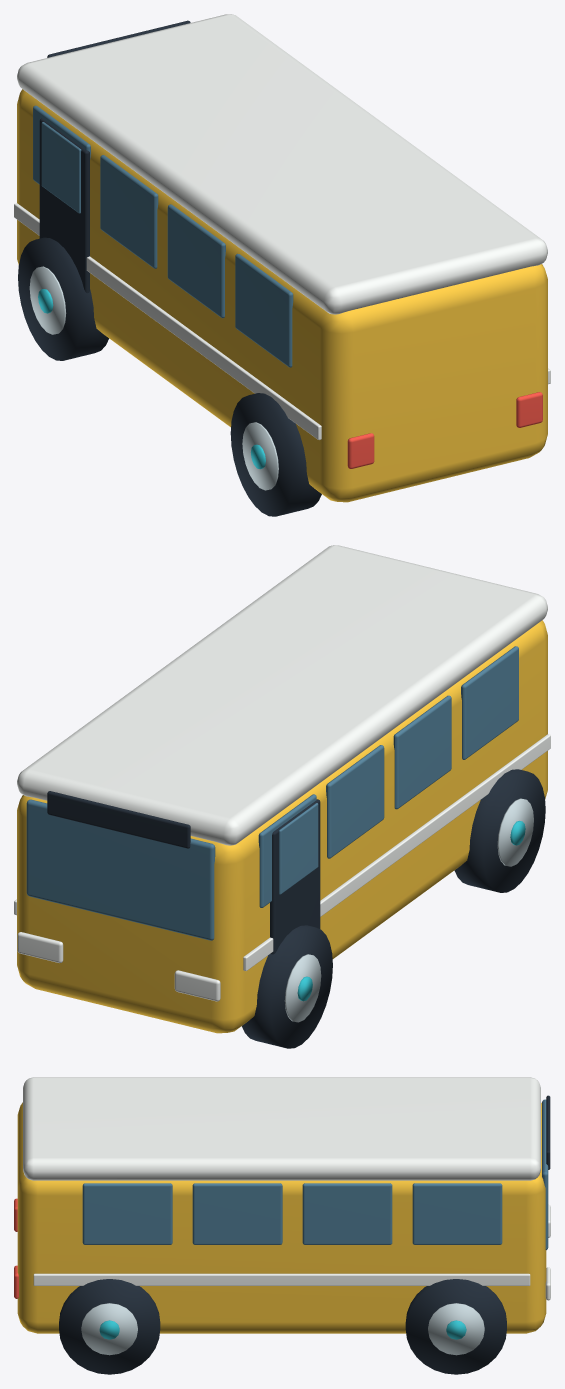
The model's file is school_bus.glb.
The picture shows the model from 3 angles, top to bottom: view 1: azimuth 30°, elevation 25°; view 2: azimuth 150°, elevation 25°; view 3: azimuth 270°, elevation 25°; orthographic projection. The views are drawn at different scales.
Parts seen in each view (by area): view 1: Rounded white roof, Bus body, Bus wheel tyre.003, Bus wheel tyre.002, Passenger window.006, Passenger window.007, Passenger window.005, Reflective side belt.001, Door, Door window, Bus wheel rim.007, Bus wheel rim.005 (+3 smaller); view 2: Rounded white roof, Bus body, Large driver windscreen, Bus wheel tyre.003, Bus wheel tyre.002, Passenger window.006, Passenger window.005, Passenger window.007, Reflective side belt.001, Friendly destination panel, Door, Door window (+5 smaller); view 3: Rounded white roof, Bus body, Reflective side belt, Passenger window.003, Passenger window, Passenger window.002, Passenger window.001, Bus wheel tyre.001, Bus wheel tyre, Bus wheel rim, Bus wheel rim.002, Large driver windscreen.
Part boxes in pixels (x1,y1,x2,y2): Rounded white roof: [17, 14, 547, 314]; Bus body: [17, 89, 547, 502]; Bus wheel tyre.003: [230, 393, 321, 516]; Bus wheel tyre.002: [18, 237, 108, 360]; Passenger window.006: [167, 204, 225, 318]; Passenger window.007: [235, 253, 293, 367]; Passenger window.005: [100, 155, 158, 268]; Reflective side belt.001: [14, 203, 321, 439]; Door: [39, 118, 89, 293]; Door window: [41, 122, 81, 213]; Bus wheel rim.007: [242, 422, 278, 490]; Bus wheel rim.005: [29, 266, 66, 334]; Rounded white roof: [17, 545, 547, 845]; Bus body: [17, 620, 547, 1033]; Large driver windscreen: [26, 799, 215, 940]; Bus wheel tyre.003: [454, 769, 545, 892]; Bus wheel tyre.002: [242, 925, 332, 1048]; Passenger window.006: [393, 695, 451, 809]; Passenger window.005: [326, 745, 384, 858]; Passenger window.007: [461, 646, 518, 759]; Reflective side belt.001: [243, 734, 550, 970]; Friendly destination panel: [47, 791, 190, 848]; Door: [270, 799, 320, 954]; Door window: [278, 803, 318, 894]; Rounded white roof: [23, 1077, 540, 1180]; Bus body: [17, 1102, 546, 1333]; Reflective side belt: [33, 1273, 530, 1285]; Passenger window.003: [82, 1183, 172, 1244]; Passenger window: [412, 1183, 502, 1244]; Passenger window.002: [192, 1183, 282, 1244]; Passenger window.001: [302, 1183, 392, 1244]; Bus wheel tyre.001: [59, 1279, 160, 1374]; Bus wheel tyre: [405, 1279, 506, 1374]; Bus wheel rim: [428, 1303, 484, 1355]; Bus wheel rim.002: [81, 1303, 137, 1355]; Large driver windscreen: [542, 1099, 548, 1250].
Bounding box in the file's own units: 2.34 × 2.15 × 5.08.
